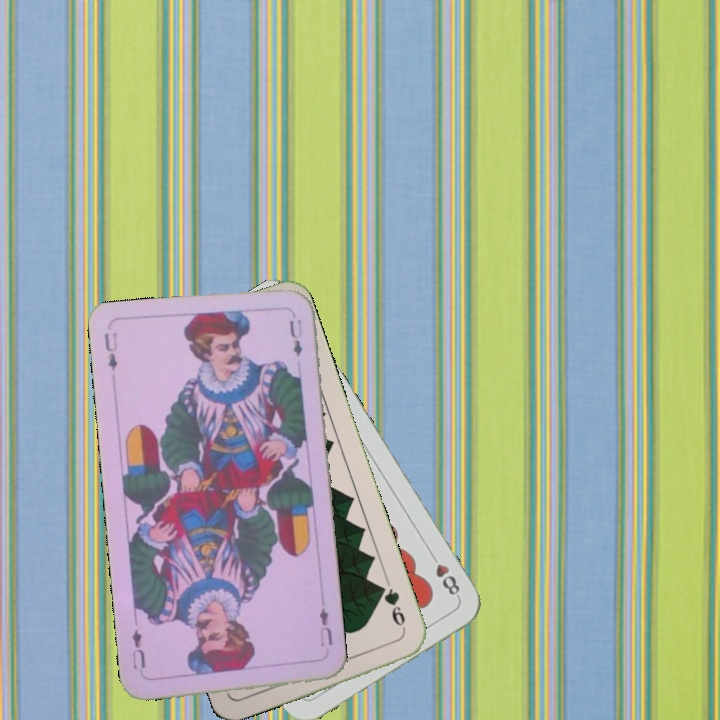EU: (315, 604, 335, 649), (100, 328, 120, 373)
G9: (374, 581, 409, 635)
H8: (425, 548, 463, 601)
